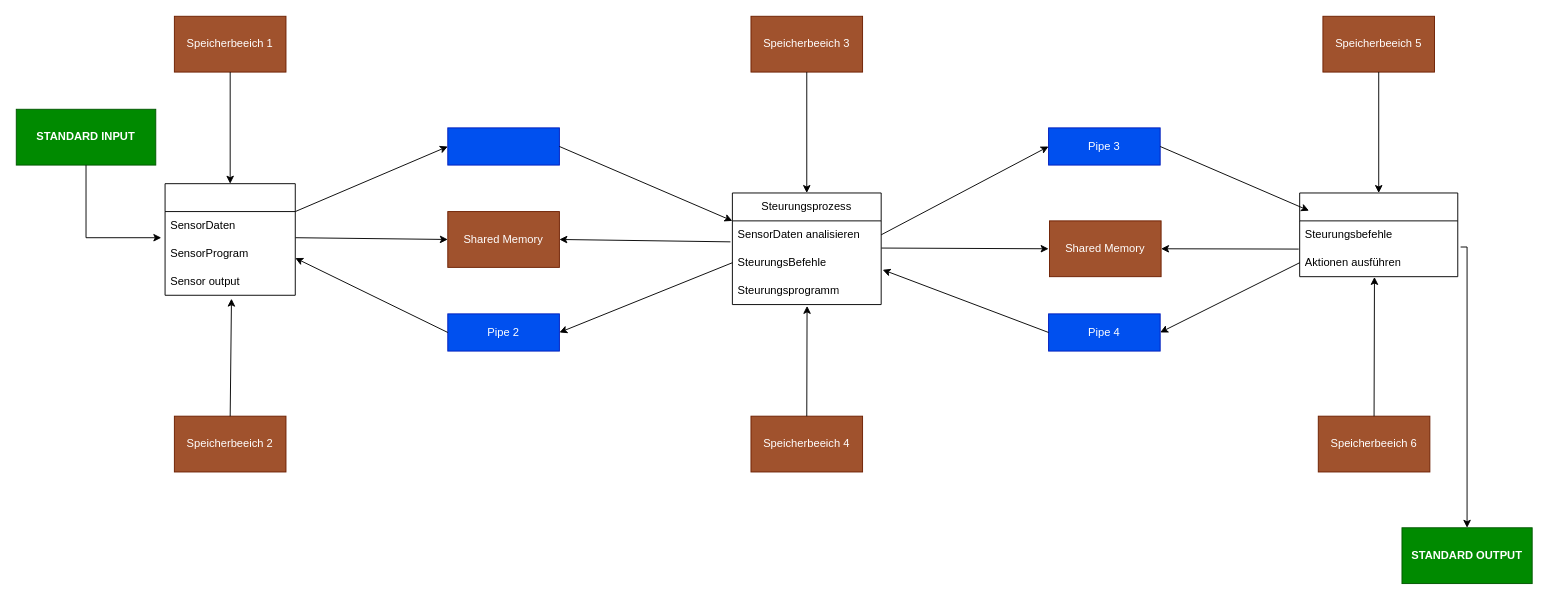
The diagram is 1548 pixels wide and 600 high, and some of its shapes have lost their labels. The shapes that lost their labels are listed below. From the top down, each one's box as (x1, y1, x2, y2) in pixels, then its label:
(447, 127, 559, 165): Pipe 1
(164, 183, 295, 295): Sensorprozess
(1299, 192, 1458, 277): Aktuatorprozess
